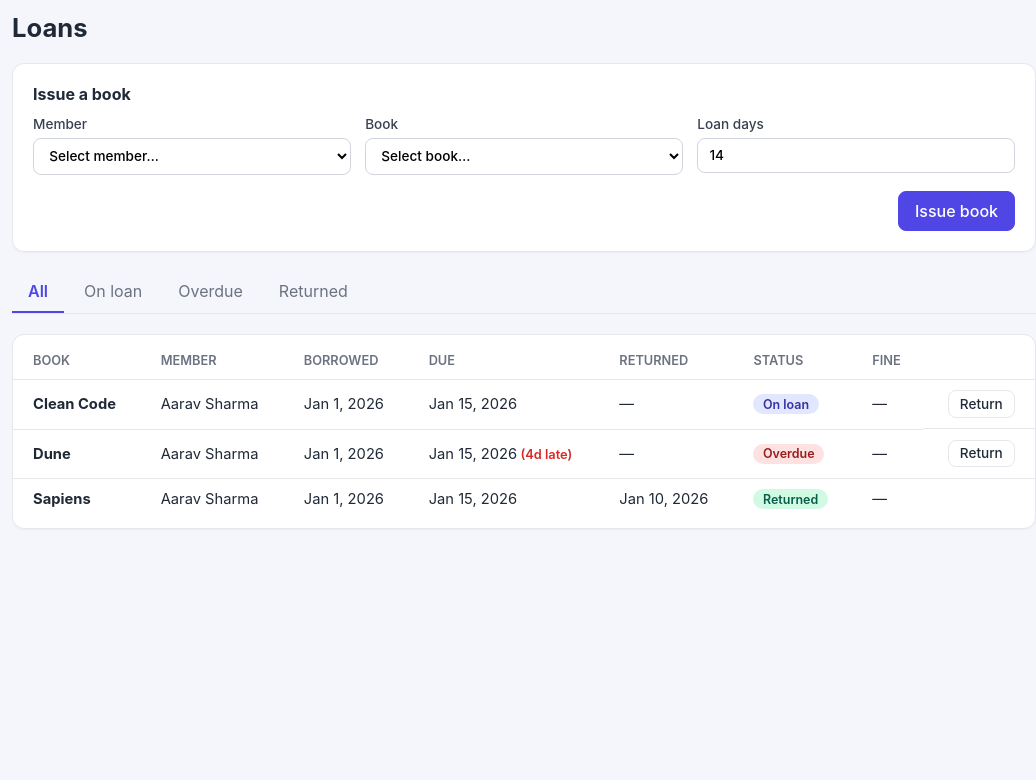
LoansPage › issues a book
The width and height of the screenshot is (1036, 780).
Expected: the text "Dune" is shown, [33,445,71,463]
Select "Aarav Sharma" in the dropdown labelled "Member" at x=192, y=156, box [33,138,351,175]
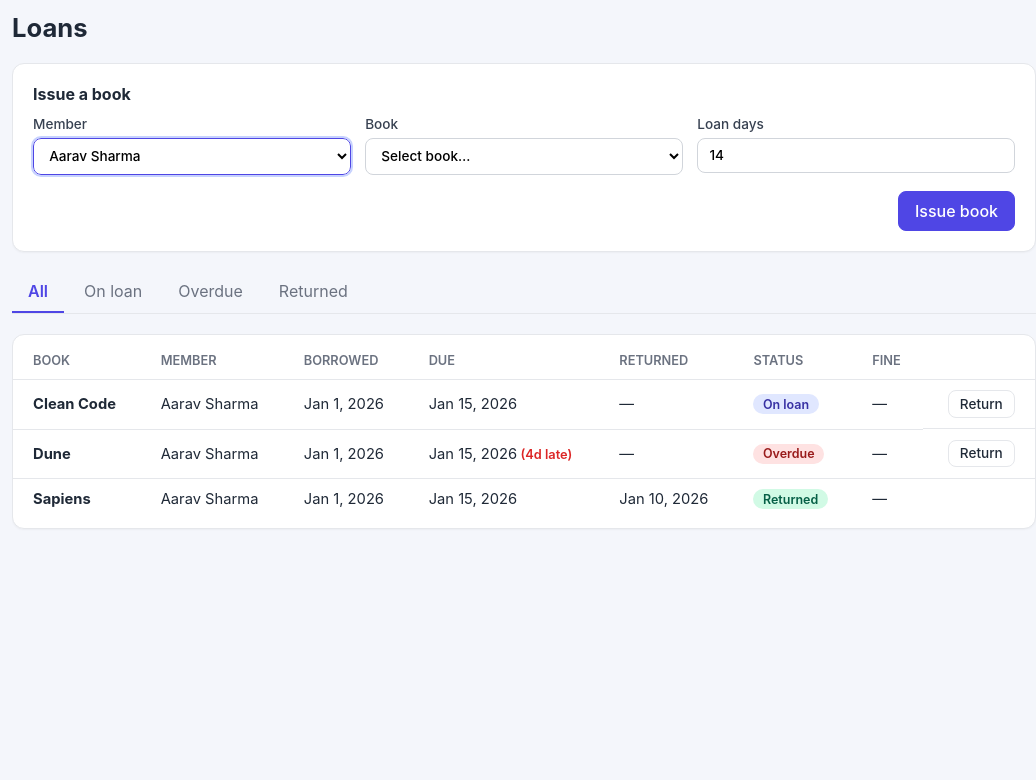
Select "Clean Code (2 available)" in the dropdown labelled "Book" at x=524, y=156, box [365,138,683,175]
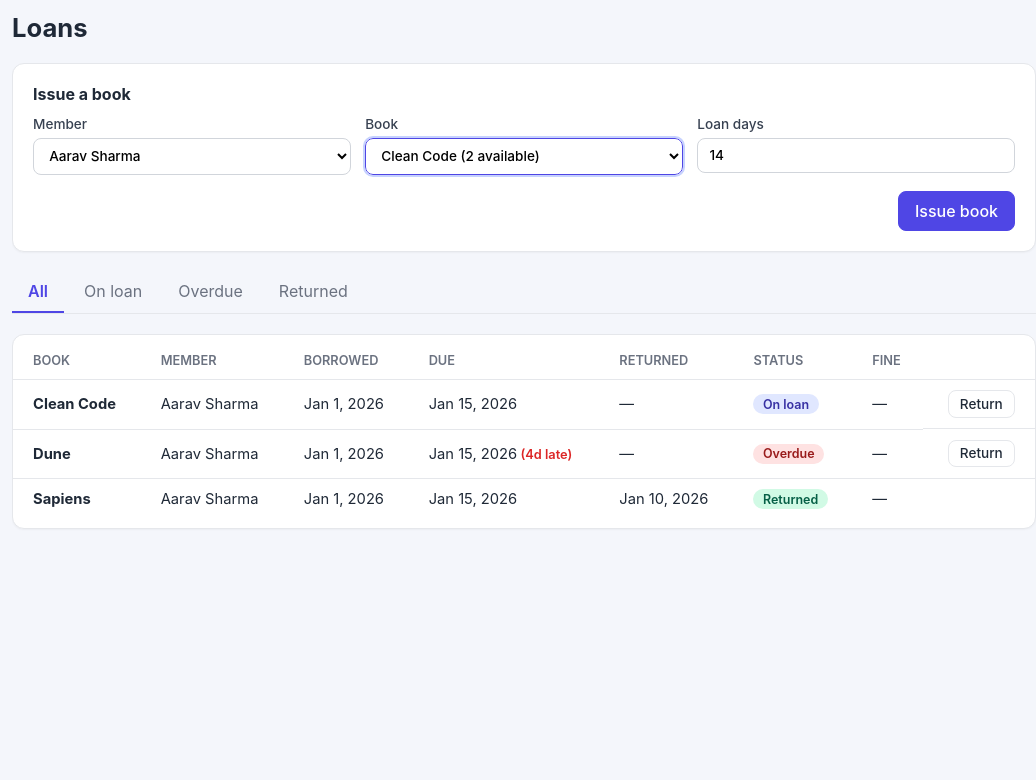
Click the button "Issue book" at x=956, y=211, box [898,191,1015,231]
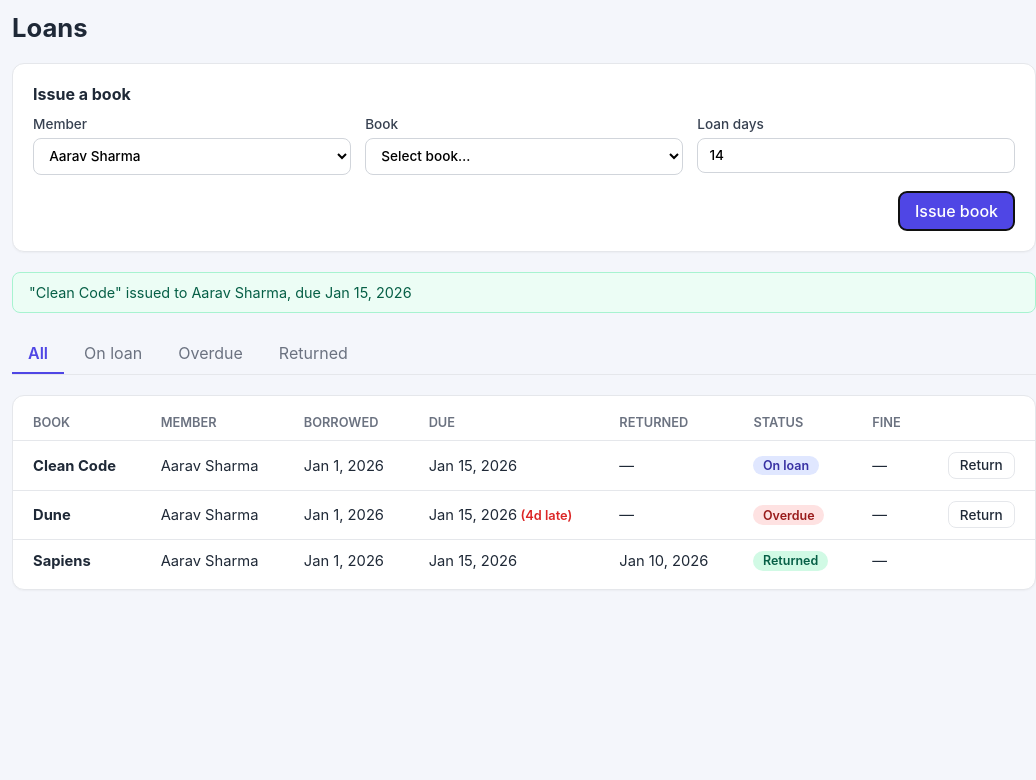
Expected: the message shows "\"Clean Code\" issued to Aarav Sharma", [29,284,412,301]
